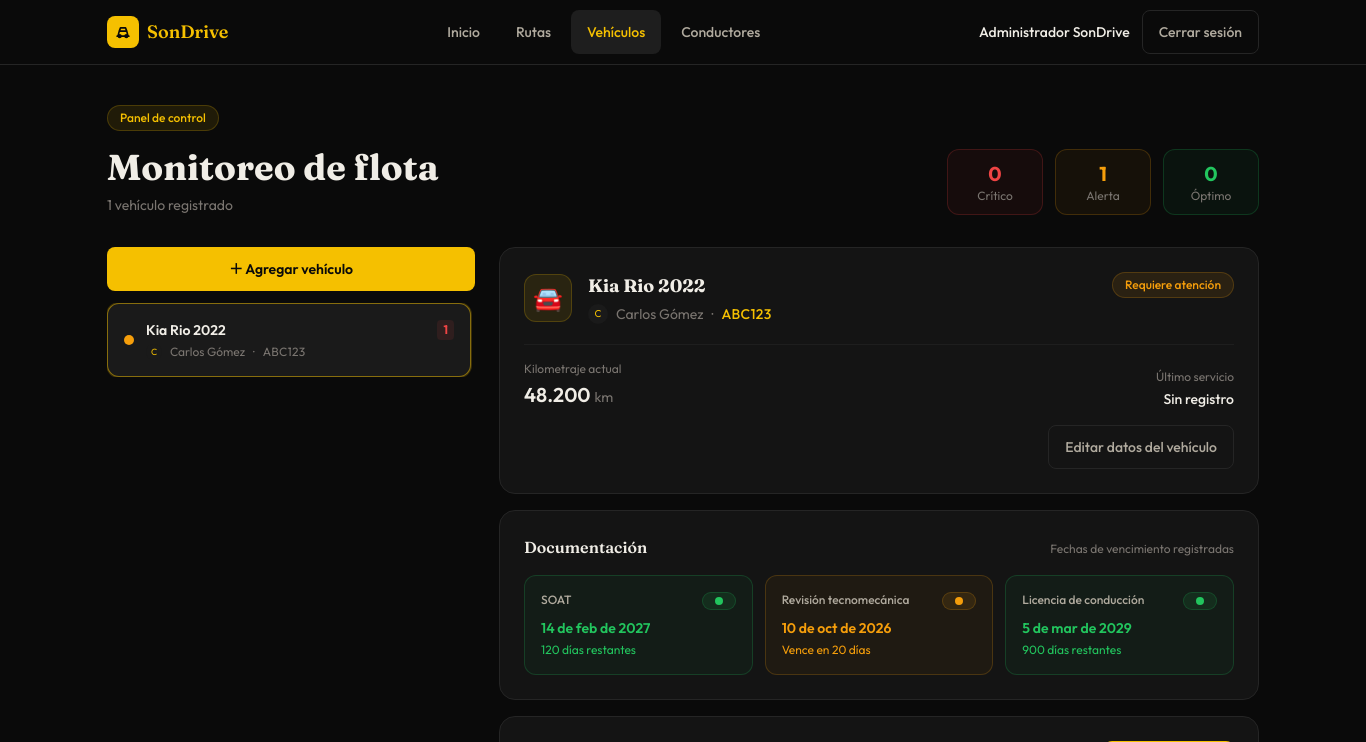
Test case: PaginaVehiculos › edición de los datos del vehículo › con la placa repetida deja el formulario abierto y el vehículo sin cambios
Click the button with aria-label "Editar datos del vehículo Kia Rio 2022 ABC123" at (1141, 447), box [1048,425,1234,469]
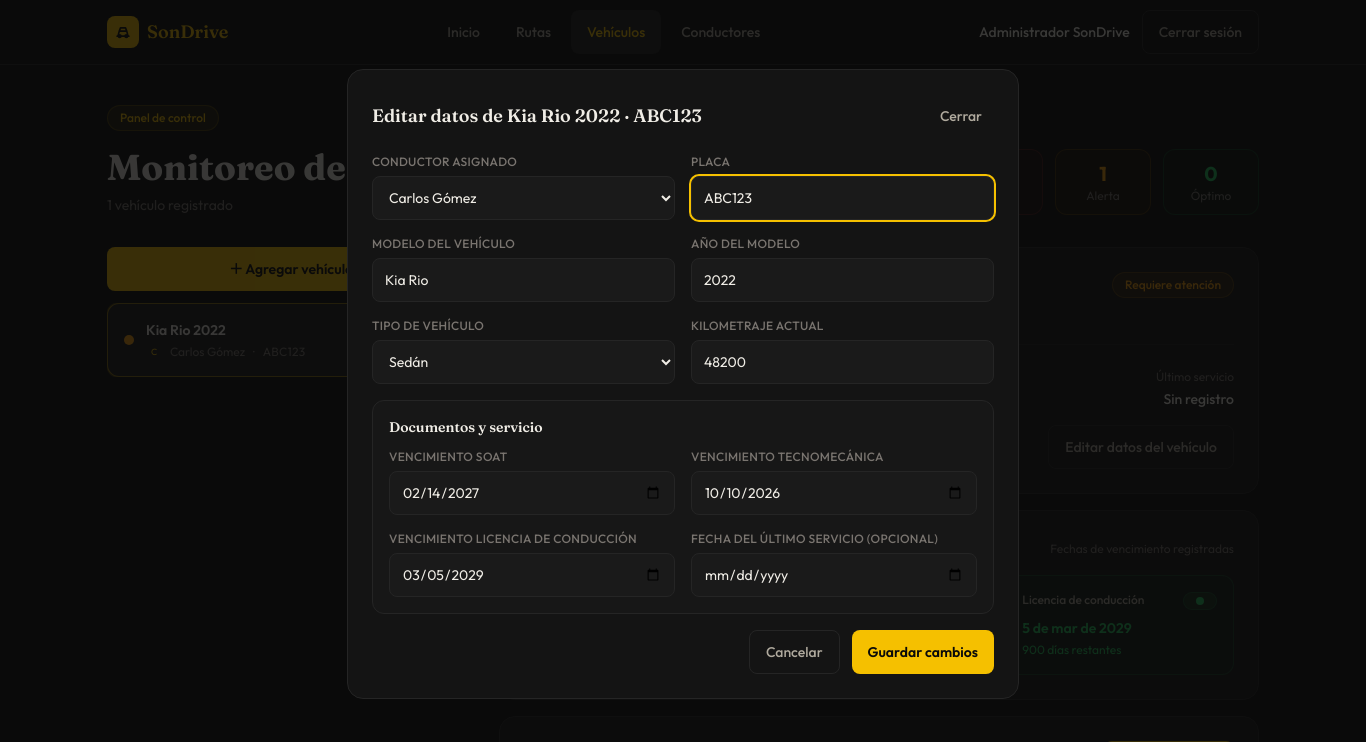
Expected: the button "Guardar cambios" is enabled, [852,630,994,674]
Replace the text in the field labelled "Placa" with "XYZ789" at (842, 198), box [691,176,994,220]
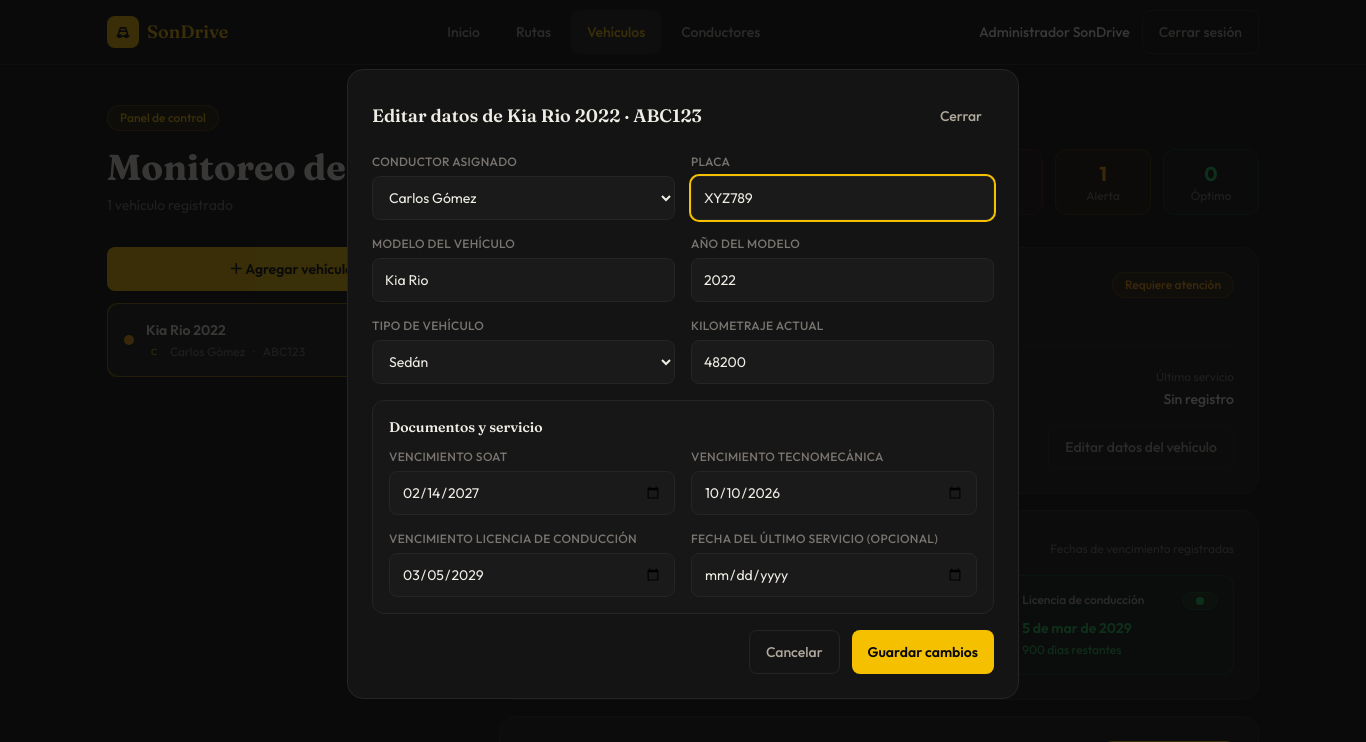
Click the button "Guardar cambios" at (923, 652), box [852,630,994,674]
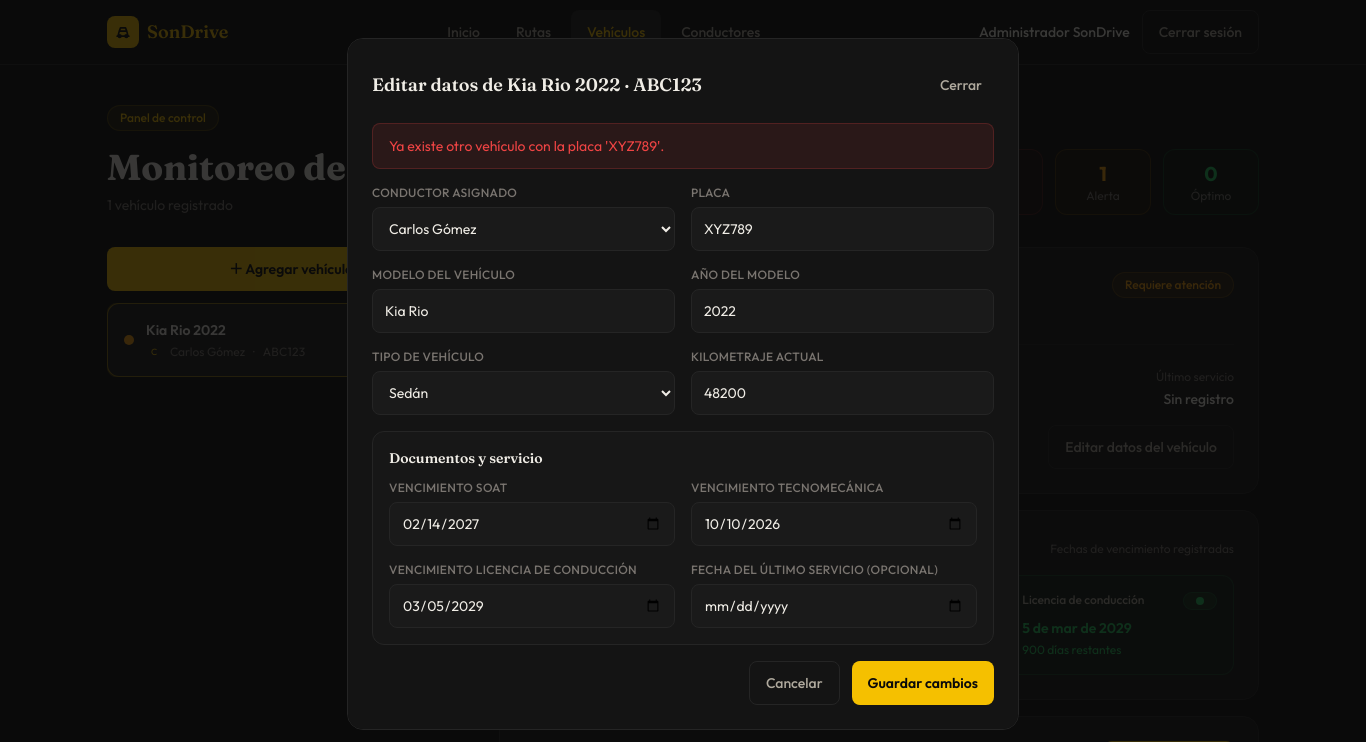
Expected: the text "ABC123" is shown, [721,304,772,324]
Expected: the text "Ya existe otro vehículo con la placa 'XYZ789'." is shown, [389,136,664,156]
